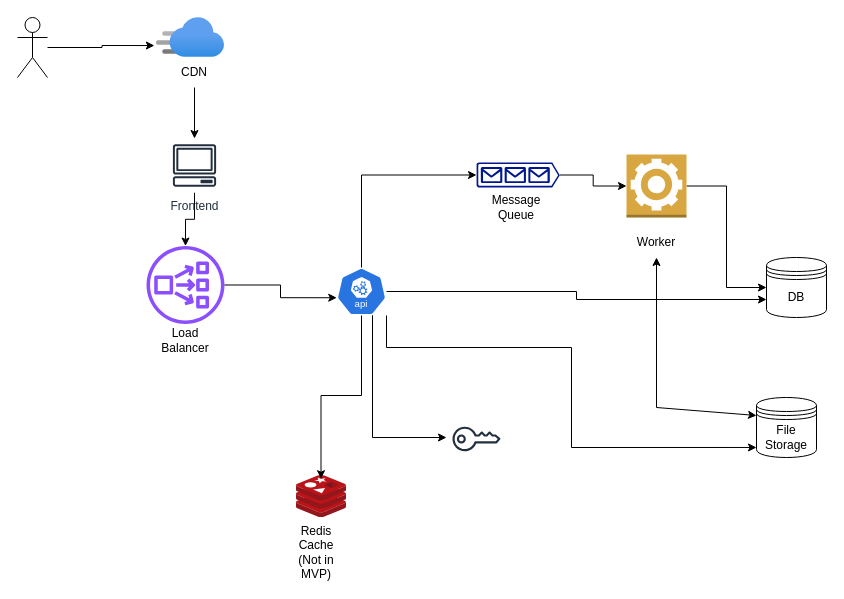
The diagram is 844 pixels wide and 599 high, and some of its shapes have lost their labels. The centre of each missing label's shape, as x and y in pixels:
Auth: (476,438)
User: (32,47)
